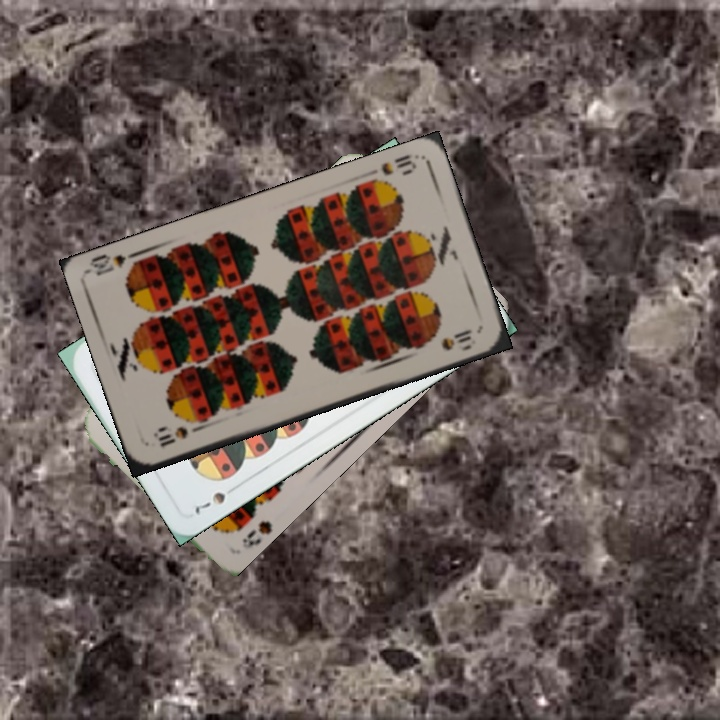S10: (150, 421, 205, 450), (377, 150, 419, 178)
S7: (190, 487, 229, 517)
S8: (238, 516, 275, 552)
